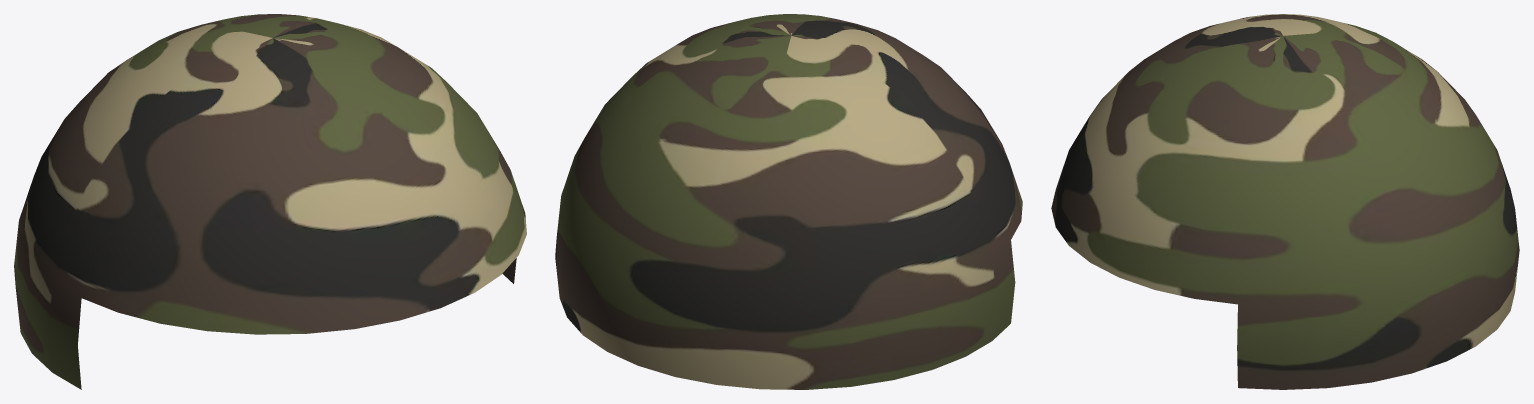
Rendered from casco.fbx.
The picture shows the model from 3 angles, left to right: view 1: azimuth 30°, elevation 25°; view 2: azimuth 150°, elevation 25°; view 3: azimuth 270°, elevation 25°; orthographic projection. The views are drawn at different scales.
Visible parts, largest first — view 1: Esfera; view 2: Esfera; view 3: Esfera.
Boxes of the visible parts, x1,y1,x2,y2 form: Esfera: (14, 14, 526, 389); Esfera: (555, 14, 1022, 389); Esfera: (1051, 14, 1519, 389).
Size of the model in its own units: 200 by 120 by 198.
